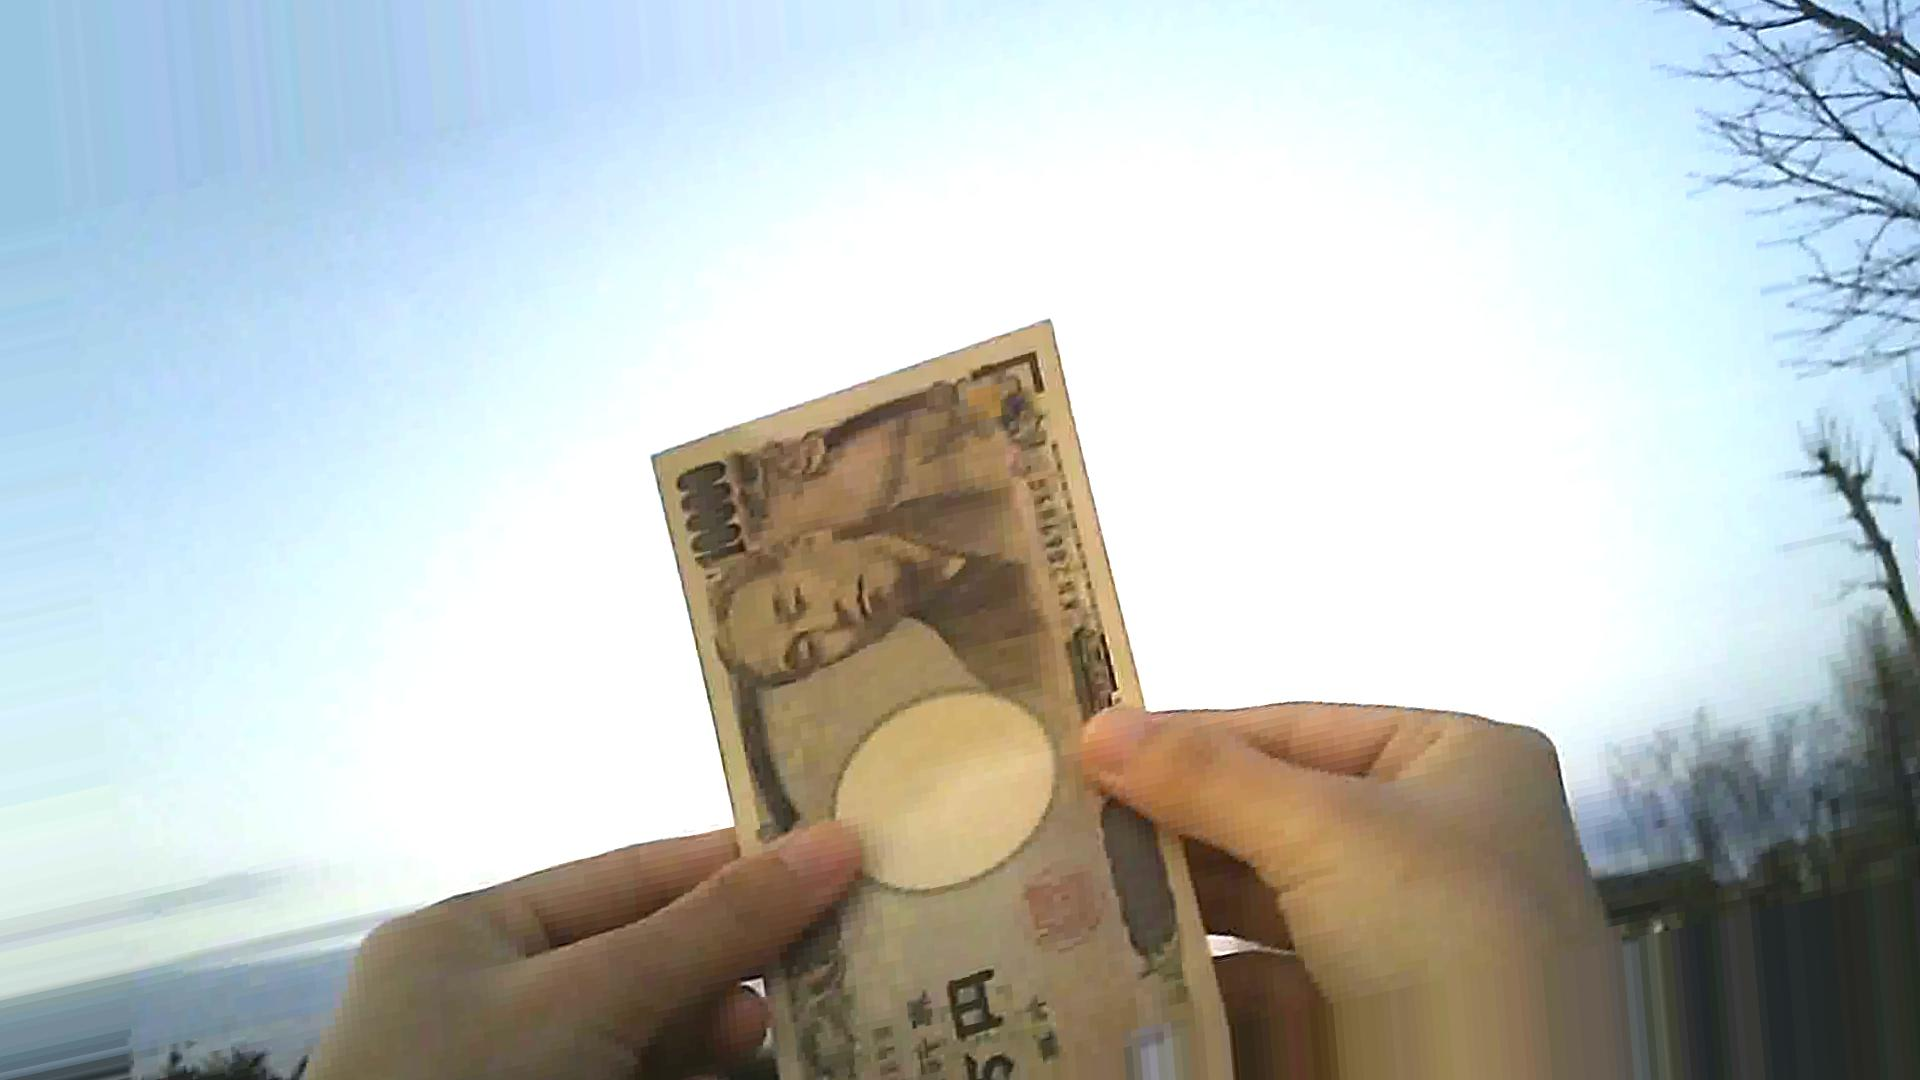10,000 Yen: (633, 320, 1193, 1079)
